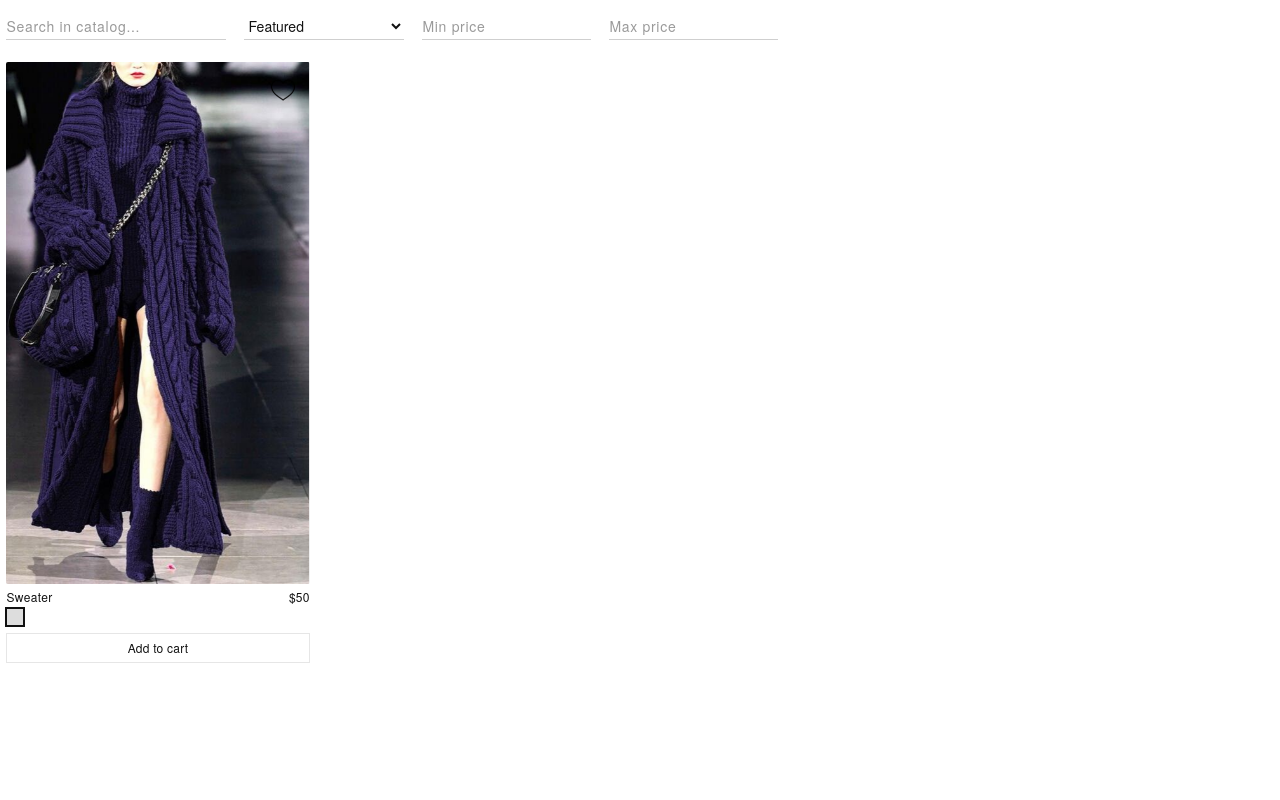
Test: ProductCatalog - add to cart (single size) › adds a single-size product to the guest cart directly without opening size modal
The width and height of the screenshot is (1280, 800).
Check: the text "Sweater" is shown, box [6,590,53,604]
Click the button "Add to cart" at (158, 648), box [6,633,310,663]
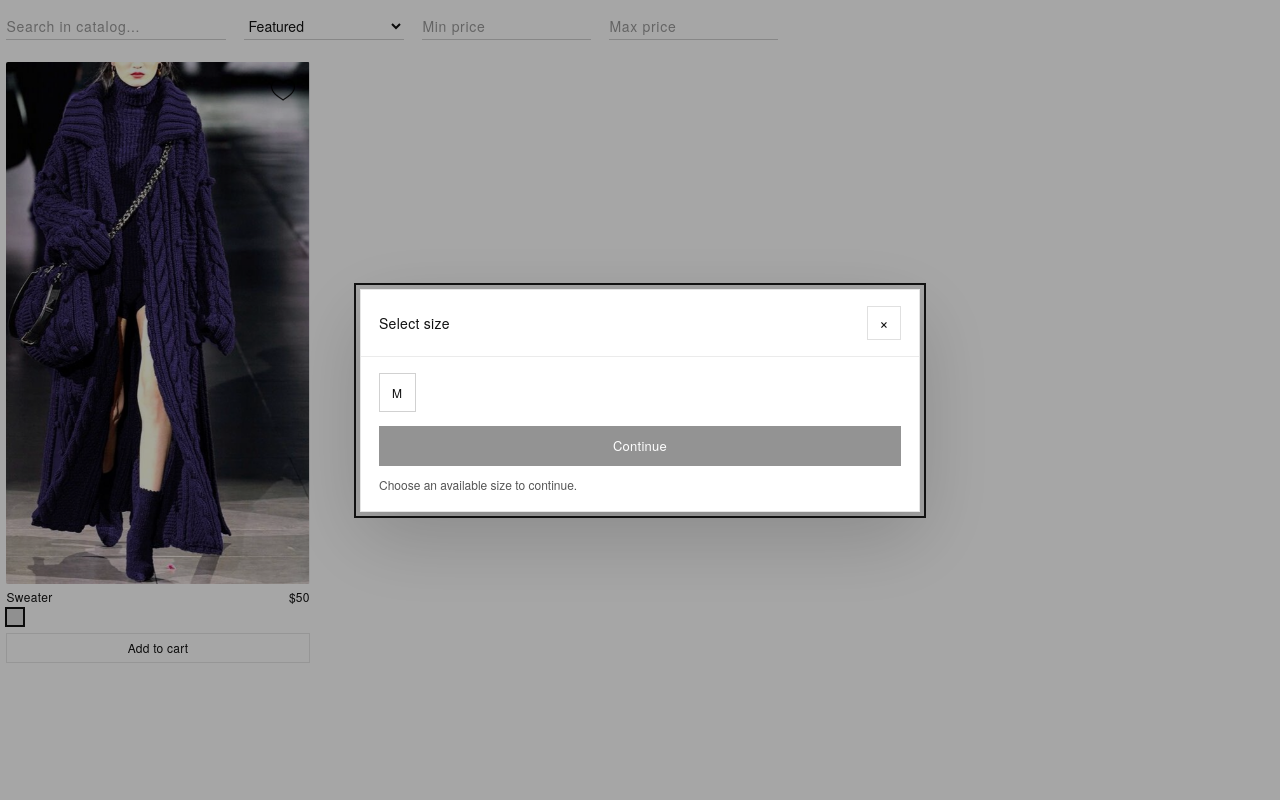
Check: the text "Select size" is shown, box [379,312,450,332]
